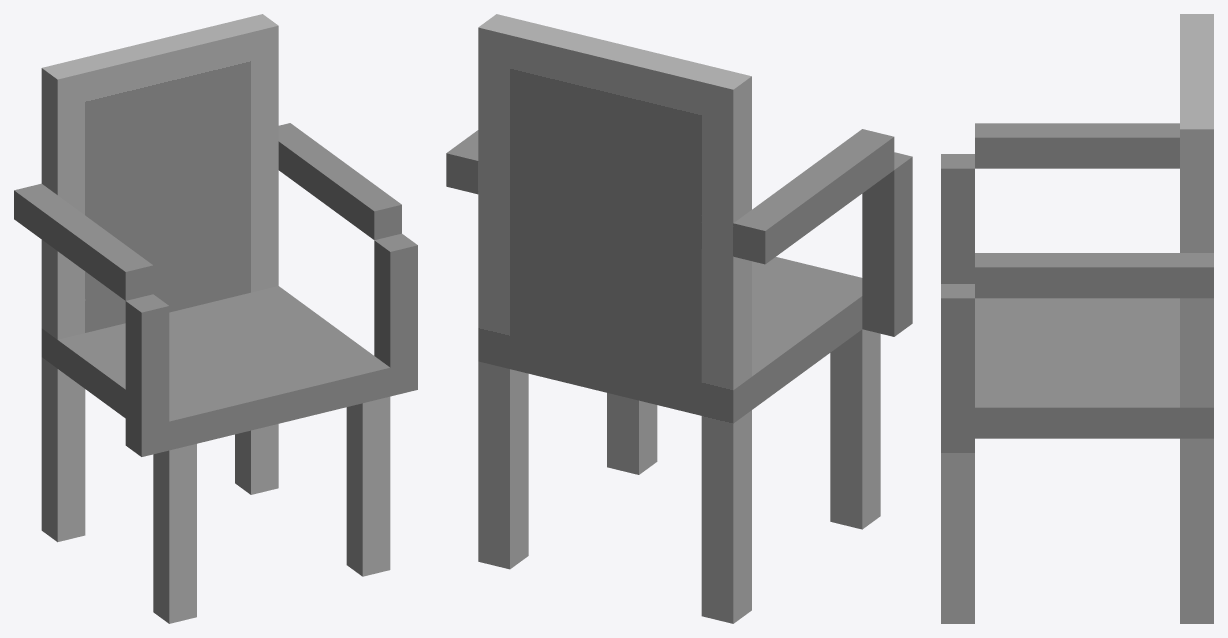
The model's file is Chair 1.glb.
3 views of the same model, side by side, from view 1: azimuth 30°, elevation 25°; view 2: azimuth 150°, elevation 25°; view 3: azimuth 270°, elevation 25° (orthographic). The views are drawn at different scales.
Visible parts, largest first — view 1: model; view 2: model; view 3: model.
Part boxes in pixels (<box>): model: <box>14,14,417,623</box>; model: <box>446,14,912,623</box>; model: <box>941,14,1213,623</box>.
Bounding box in the file's own units: 1 × 1.6 × 0.8.
1 material, 1 textured.
